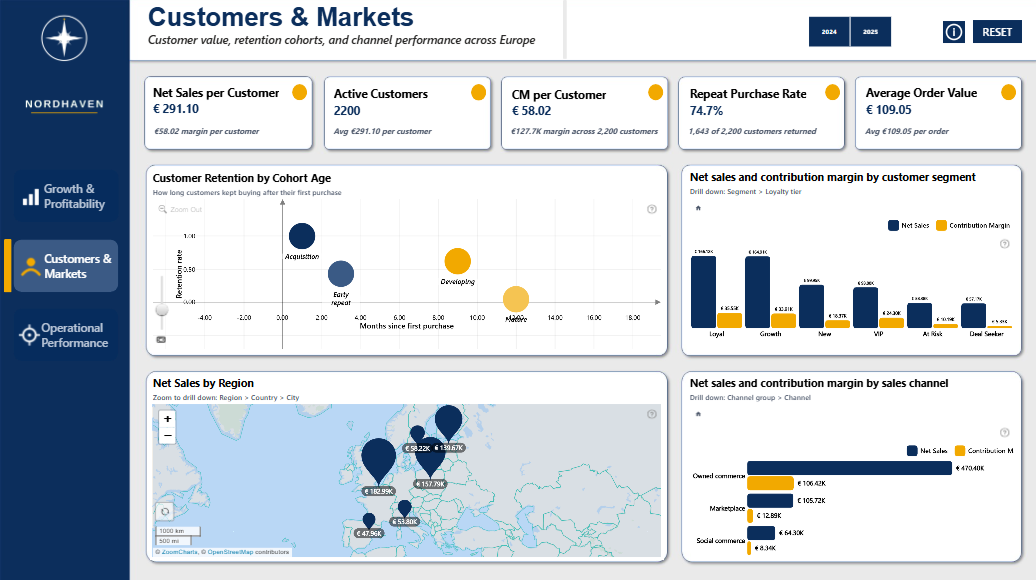

Layout of this report page (visuals, bound fields, positions):
{"tool":"powerbi","page":{"name":"Customers & Markets","canvas":[1920,1080],"ordinal":1},"visuals":[{"type":"image","box":[0,0,237.4,237.4],"z":0},{"type":"textbox","box":[268.4,0,534.9,72.7],"z":1000,"group":"g1"},{"type":"actionButton","title":"Growth & Profitability","box":[24,313.8,196.9,99.1],"z":1000},{"type":"group","id":"g1","title":"Group 1","box":[268.4,0,766,119.7],"z":2000},{"type":"textbox","box":[268.5,53.7,765.9,66.1],"z":2000,"group":"g1"},{"type":"shape","box":[8.3,441.8,14.5,99.1],"z":2000,"group":"g2"},{"type":"actionButton","title":"Operational Performance","box":[24.8,569.8,196.1,99.1],"z":3000},{"type":"group","id":"g2","title":"Group 2","box":[8.3,441.8,212.6,99.1],"z":4000},{"type":"actionButton","box":[24.8,441.8,196.1,99.1],"z":4000,"group":"g2"},{"type":"cardVisual","fields":{"Data":["1_Calculations.Net Sales per Customer"]},"box":[253.2,119.1,306.4,134],"z":6000},{"type":"cardVisual","fields":{"Data":["1_Calculations.Average Order Value"]},"box":[1574.4,121.1,306.7,132.2],"z":7000},{"type":"shape","box":[871.6,155.6,28.4,30.9],"z":8000},{"type":"shape","box":[1854.3,155.4,28.3,30.4],"z":9000},{"type":"shape","box":[541.3,155.4,28.3,30.4],"z":10000},{"type":"shape","box":[1527.2,155.4,28.3,30.4],"z":11000},{"type":"shape","box":[1200,155.1,28.6,30.6],"z":12000},{"type":"cardVisual","fields":{"Data":["1_Calculations.CM per Customer"]},"box":[918.9,123.3,306.7,130],"z":13000},{"type":"cardVisual","fields":{"Data":["1_Calculations.Repeat Purchase Rate"]},"box":[1247.8,122.2,306.7,131.1],"z":14000},{"type":"cardVisual","fields":{"Data":["1_Calculations.Active Customers"]},"box":[588.9,122.2,306.7,131.1],"z":15000},{"type":"card","fields":{"Values":["1_Calculations.Net Sales per Customer Context"]},"box":[277,218.9,208.1,51.4],"z":16000},{"type":"card","fields":{"Values":["1_Calculations.Active Customers Context"]},"box":[606,219.4,204.5,50.7],"z":17000},{"type":"card","fields":{"Values":["1_Calculations.Orders Context"]},"box":[1593.3,218.9,172.2,51.1],"z":18000},{"type":"card","fields":{"Values":["1_Calculations.Repeat Purchase Rate Context"]},"box":[1262.2,218.9,259.5,51.4],"z":19000},{"type":"card","fields":{"Values":["1_Calculations.CM per Customer Context"]},"box":[935.8,217.9,292.5,52.2],"z":20000},{"type":"ZoomChartsDrillDownBubblePro2B1E93FCC33E4BE6A2BF7A8B1AA7FACA","title":"Customer Retention by Cohort Age","fields":{"sourceNodes":["CountNonNull(DimCohortAge.MonthsSinceFirstPurchase)"],"targetNodes":["1_Calculations.Retention Rate"],"nodeName":["1_Calculations.Active Customers"],"category":["DimCohortAge.LifecycleStage"]},"box":[277.8,314.3,950.8,336.5],"z":21000},{"type":"ZoomChartsDrillDownComboBarProE77E4ED357DC402ABA005987437CF8","title":"Net sales and contribution margin by sales channel","fields":{"Category":["DimSalesChannel.ChannelGroup","DimSalesChannel.SalesChannel"],"Values1":["1_Calculations.Net Sales"],"Values2":["1_Calculations.Contribution Margin"]},"box":[1272.8,693.8,609.9,342],"z":22000},{"type":"ZoomChartsDrillDownMapPro6AFEEB10499543F282BD06EF315D5EAA","title":"Net Sales by Region","fields":{"latitude":["DimGeography.CityCoordinates.Latitude"],"longitude":["DimGeography.CityCoordinates.Longitude"],"value":["1_Calculations.Net Sales"],"name":["DimGeography.City"],"category":["DimGeography.Region"]},"box":[278.5,693.8,950.8,341.5],"z":23000},{"type":"ZoomChartsFacetChartPaidE77E4ED357DC402ABA005987437CF500","title":"Net sales and contribution margin by customer segment","fields":{"Category":["DimCustomer.CustomerSegment","DimCustomer.LoyaltyTier"],"Values1":["1_Calculations.Net Sales"],"Values2":["1_Calculations.Contribution Margin"]},"box":[1272.8,313.6,609.9,337],"z":24000},{"type":"actionButton","title":"Reset","box":[1801.9,37,90.7,42.6],"z":25000},{"type":"shape","box":[1042.6,0,7.4,109.3],"z":26000},{"type":"slicer","fields":{"Values":["LocalDateTable_ca70bc53-79dc-4852-b3f8-6f189456e860.Year"]},"box":[1472.2,24.1,201.9,68.5],"z":27000},{"type":"actionButton","title":"Info Button","box":[1746.3,38.9,40.7,40.7],"z":28000}]}

Visuals, with their boxes on the page's 1920x1080 design canvas (x1, y1, x2, y2). These are canvas units, not pixel positions in the 1036x580 screenshot, which may show the page scaled, cropped or inside an application window:
image: <box>0,0,237,237</box>
textbox: <box>268,0,803,73</box>
"Growth & Profitability" actionButton: <box>24,314,221,413</box>
"Group 1" group: <box>268,0,1034,120</box>
textbox: <box>268,54,1034,120</box>
shape: <box>8,442,23,541</box>
"Operational Performance" actionButton: <box>25,570,221,669</box>
"Group 2" group: <box>8,442,221,541</box>
actionButton: <box>25,442,221,541</box>
cardVisual - 1_Calculations.Net Sales per Customer: <box>253,119,560,253</box>
cardVisual - 1_Calculations.Average Order Value: <box>1574,121,1881,253</box>
shape: <box>872,156,900,186</box>
shape: <box>1854,155,1883,186</box>
shape: <box>541,155,570,186</box>
shape: <box>1527,155,1556,186</box>
shape: <box>1200,155,1229,186</box>
cardVisual - 1_Calculations.CM per Customer: <box>919,123,1226,253</box>
cardVisual - 1_Calculations.Repeat Purchase Rate: <box>1248,122,1554,253</box>
cardVisual - 1_Calculations.Active Customers: <box>589,122,896,253</box>
card - 1_Calculations.Net Sales per Customer Context: <box>277,219,485,270</box>
card - 1_Calculations.Active Customers Context: <box>606,219,810,270</box>
card - 1_Calculations.Orders Context: <box>1593,219,1766,270</box>
card - 1_Calculations.Repeat Purchase Rate Context: <box>1262,219,1522,270</box>
card - 1_Calculations.CM per Customer Context: <box>936,218,1228,270</box>
"Customer Retention by Cohort Age" ZoomChartsDrillDownBubblePro2B1E93FCC33E4BE6A2BF7A8B1AA7FACA: <box>278,314,1229,651</box>
"Net sales and contribution margin by sales channel" ZoomChartsDrillDownComboBarProE77E4ED357DC402ABA005987437CF8: <box>1273,694,1883,1036</box>
"Net Sales by Region" ZoomChartsDrillDownMapPro6AFEEB10499543F282BD06EF315D5EAA: <box>278,694,1229,1035</box>
"Net sales and contribution margin by customer segment" ZoomChartsFacetChartPaidE77E4ED357DC402ABA005987437CF500: <box>1273,314,1883,651</box>
"Reset" actionButton: <box>1802,37,1893,80</box>
shape: <box>1043,0,1050,109</box>
slicer - LocalDateTable_ca70bc53-79dc-4852-b3f8-6f189456e860.Year: <box>1472,24,1674,93</box>
"Info Button" actionButton: <box>1746,39,1787,80</box>
